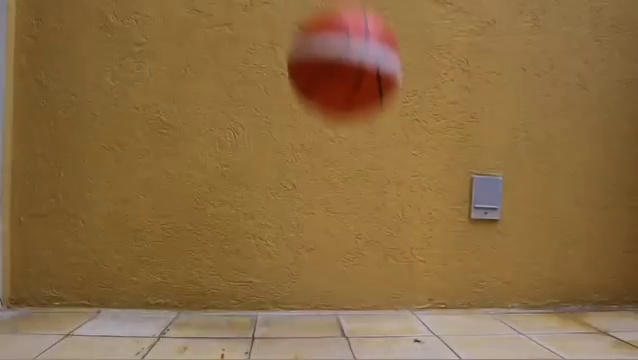ball: (284, 9, 404, 121)
